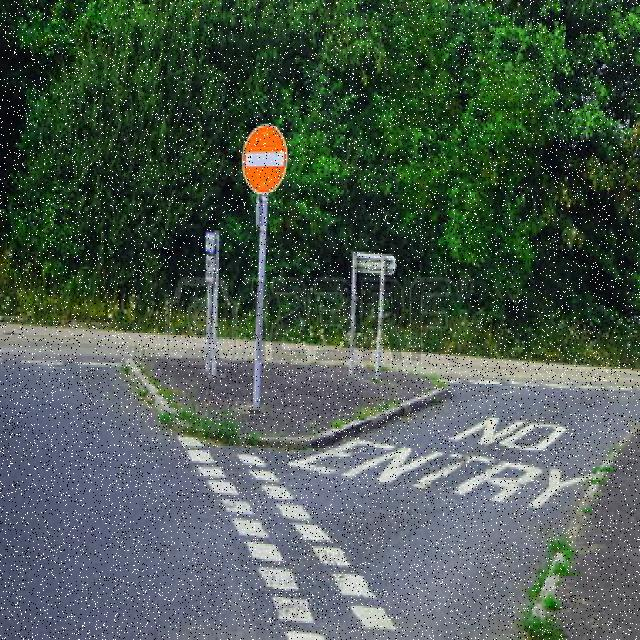no entry: (240, 124, 288, 194)
